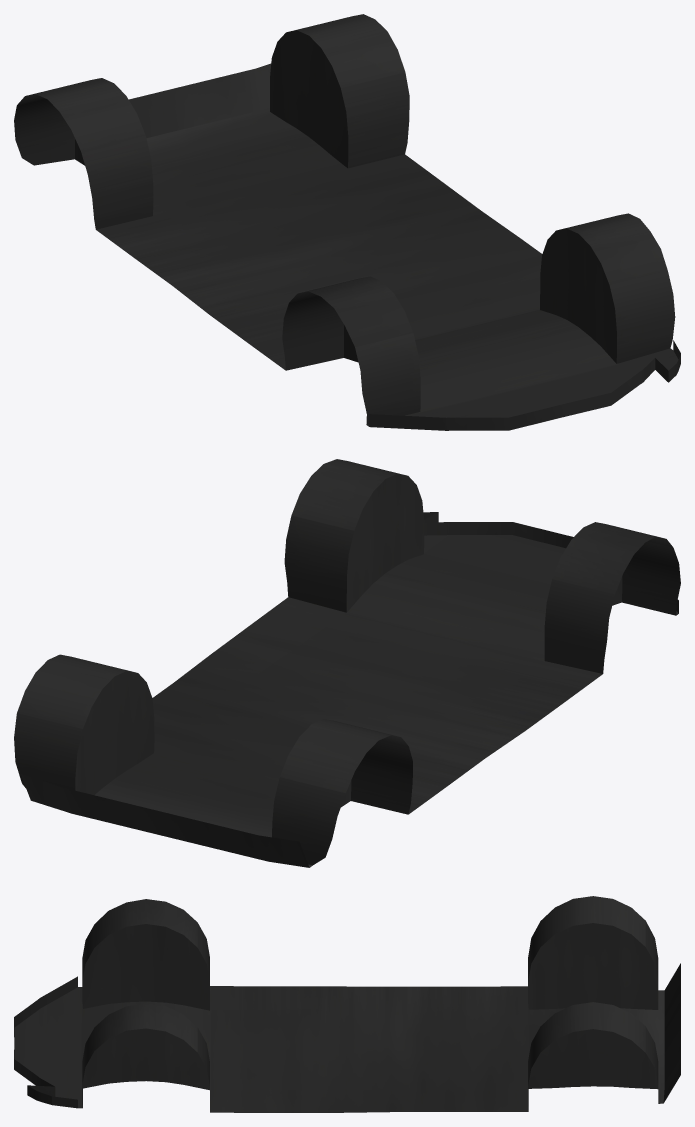
File: under_carriage.obj
The picture shows the model from 3 angles, top to bottom: view 1: azimuth 30°, elevation 25°; view 2: azimuth 150°, elevation 25°; view 3: azimuth 270°, elevation 25°; orthographic projection. The views are drawn at different scales.
Visible parts, largest first — view 1: undercarriage; view 2: undercarriage; view 3: undercarriage.
Boxes of the visible parts, x1,y1,x2,y2 form: undercarriage: (14, 14, 680, 430); undercarriage: (14, 459, 680, 867); undercarriage: (14, 896, 680, 1112).
Size of the model in its own units: 183 by 56.49 by 388.
